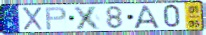0: (162, 4, 183, 31)
8: (104, 5, 125, 30)
A: (133, 5, 161, 30)
P: (44, 6, 68, 31)
X: (73, 5, 104, 30), (21, 7, 45, 32)
